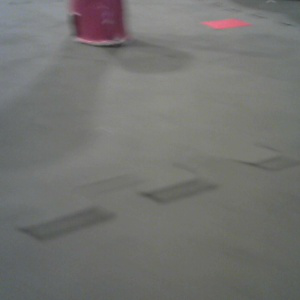middle: (67, 1, 135, 49)
